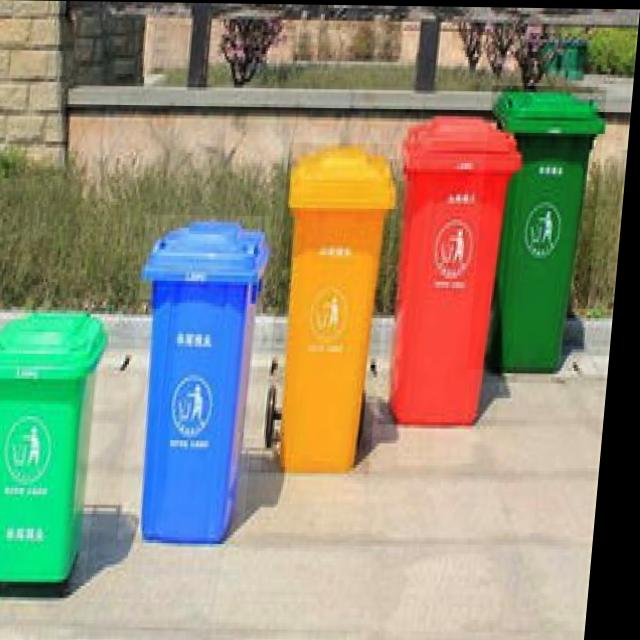garbage_bin: (127, 214, 275, 540), (386, 108, 526, 424), (269, 141, 400, 473), (474, 84, 608, 369), (0, 306, 116, 582)
